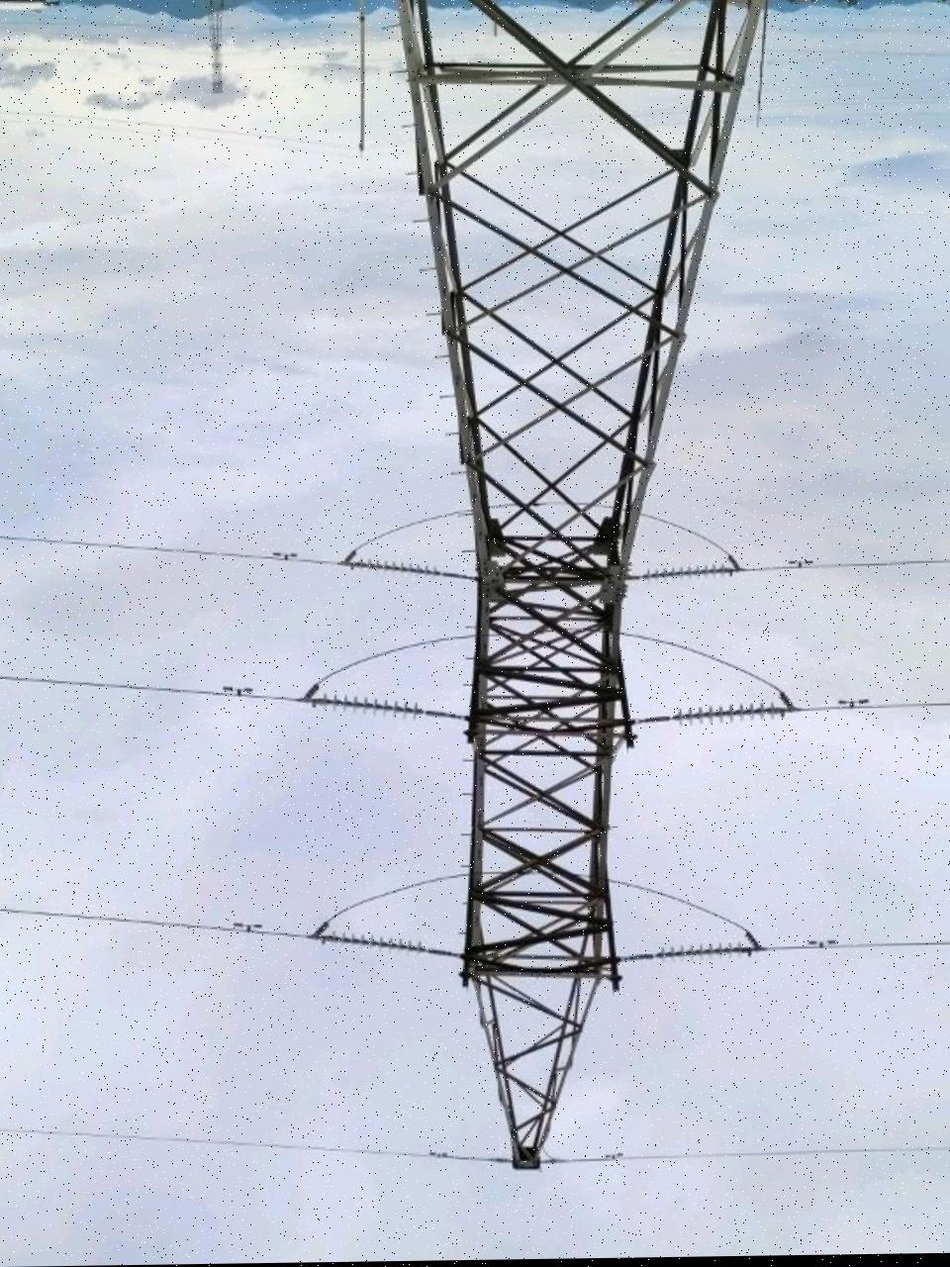tower: (374, 0, 815, 1199)
